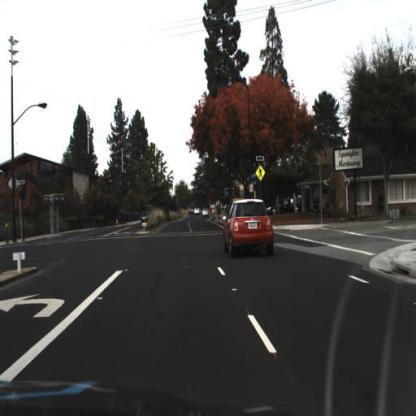car: (222, 197, 278, 258)
pedestrian: (293, 192, 300, 218), (276, 195, 282, 218), (292, 194, 298, 215), (288, 194, 293, 212)
